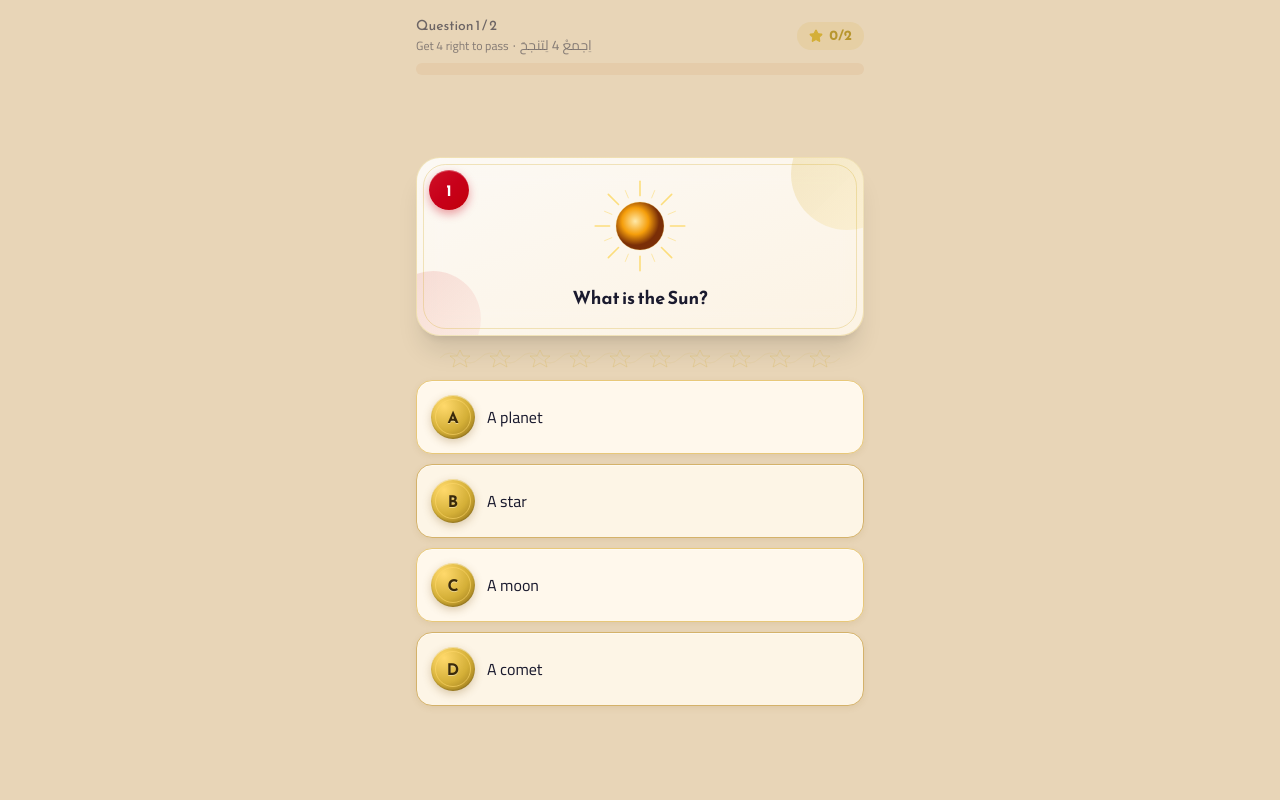
Test: QuizPhase › shows feedback modal after selecting an answer
Click the button with aria-label "option B: A star" at (453, 501), box top-left (416, 464), bottom-right (864, 538)
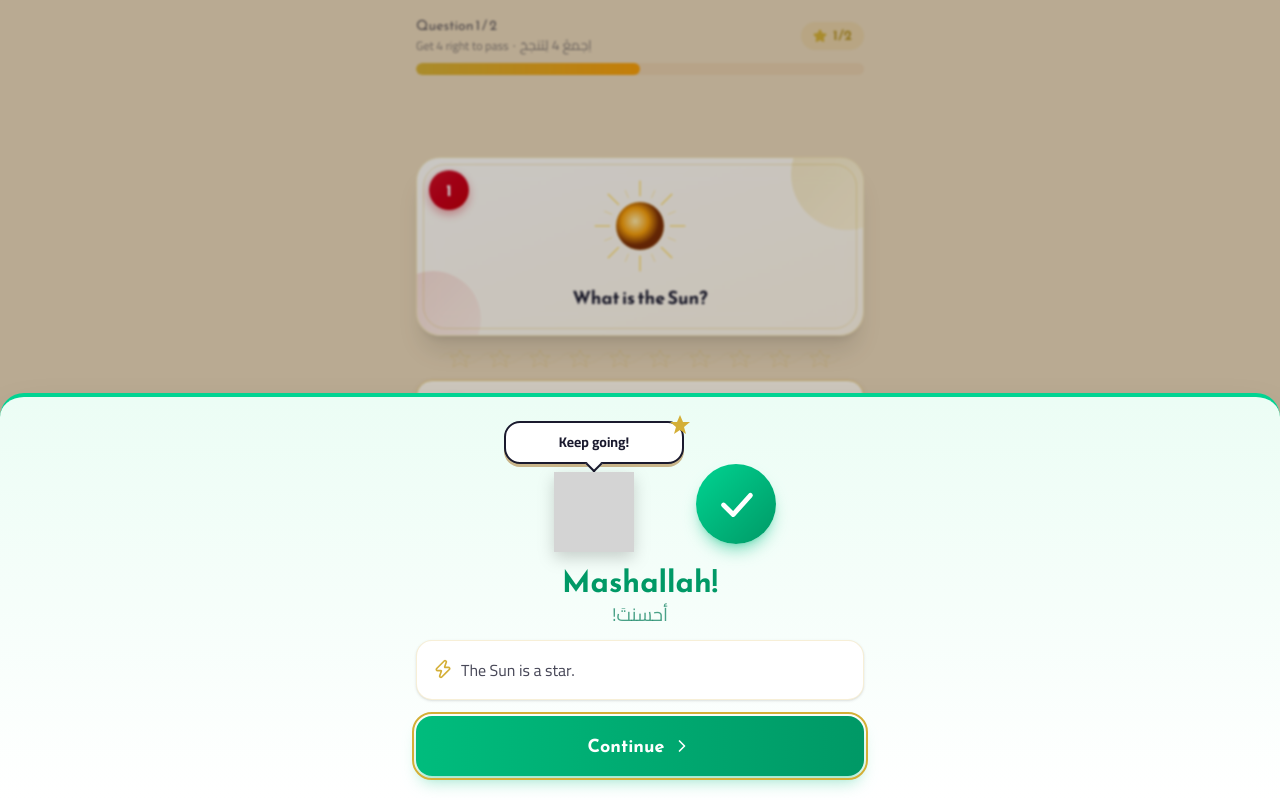
Now the text "The Sun is a star." is shown, box top-left (461, 657), bottom-right (575, 683)
